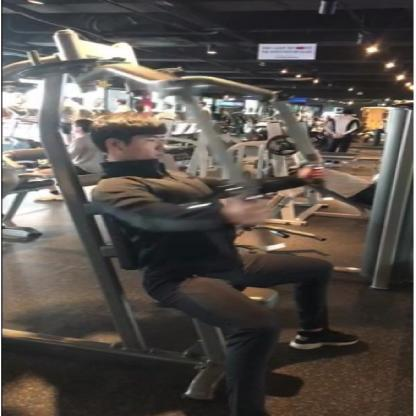chest fly machine: (0, 0, 365, 416)
